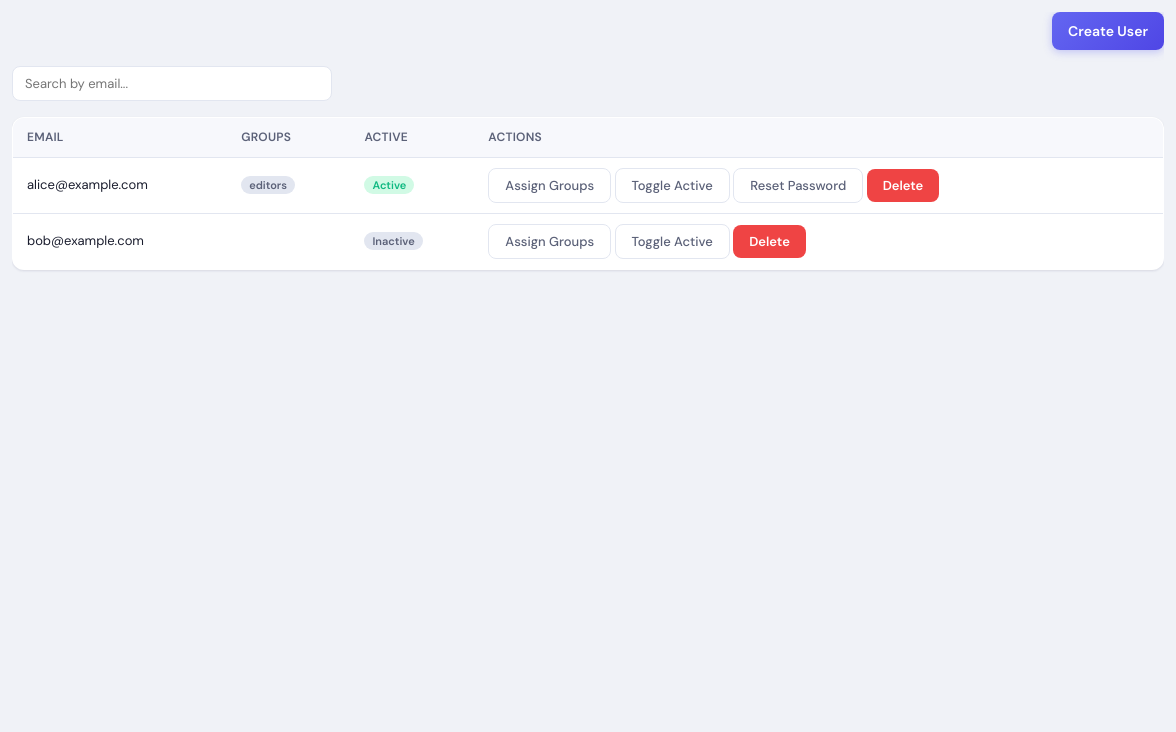
Scenario: UsersTab › clicking same email again collapses ApiKeyPanel
Click the text "alice@example.com".
click(120, 186)  # box [12,158,227,214]
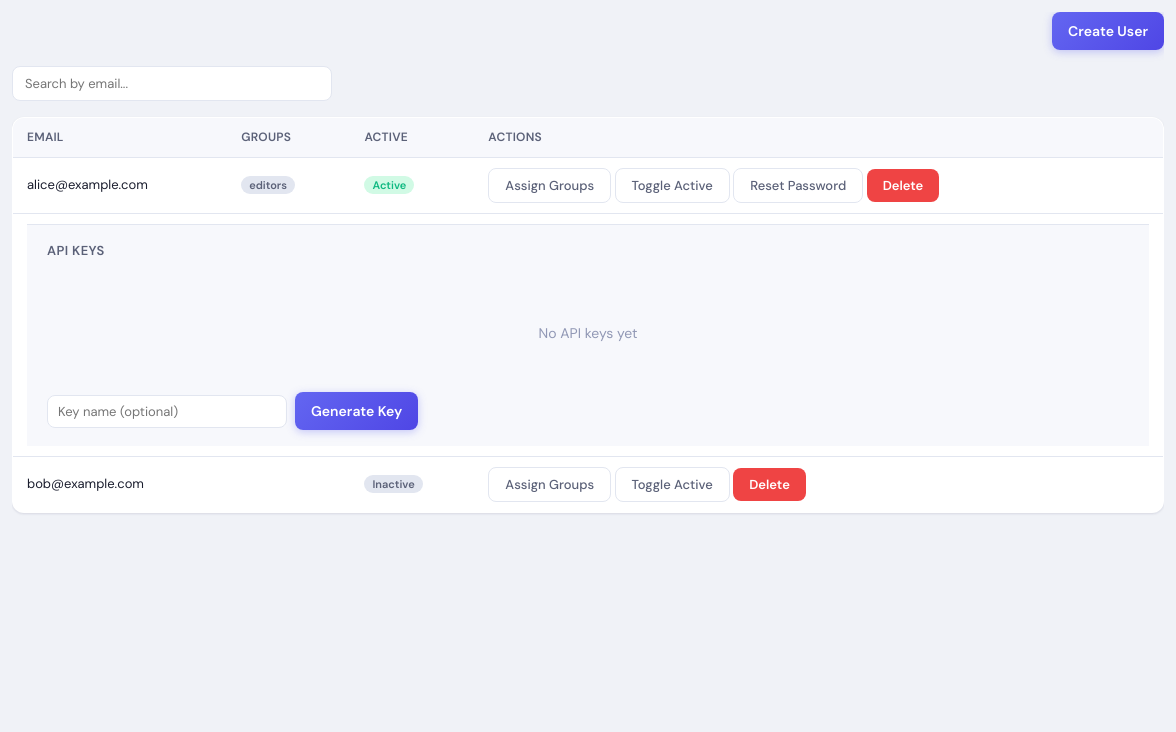
Expected: the element with class "api-key-panel" is shown, [27,224,1149,446]
Click the text "alice@example.com".
click(120, 186)  # box [12,158,227,214]
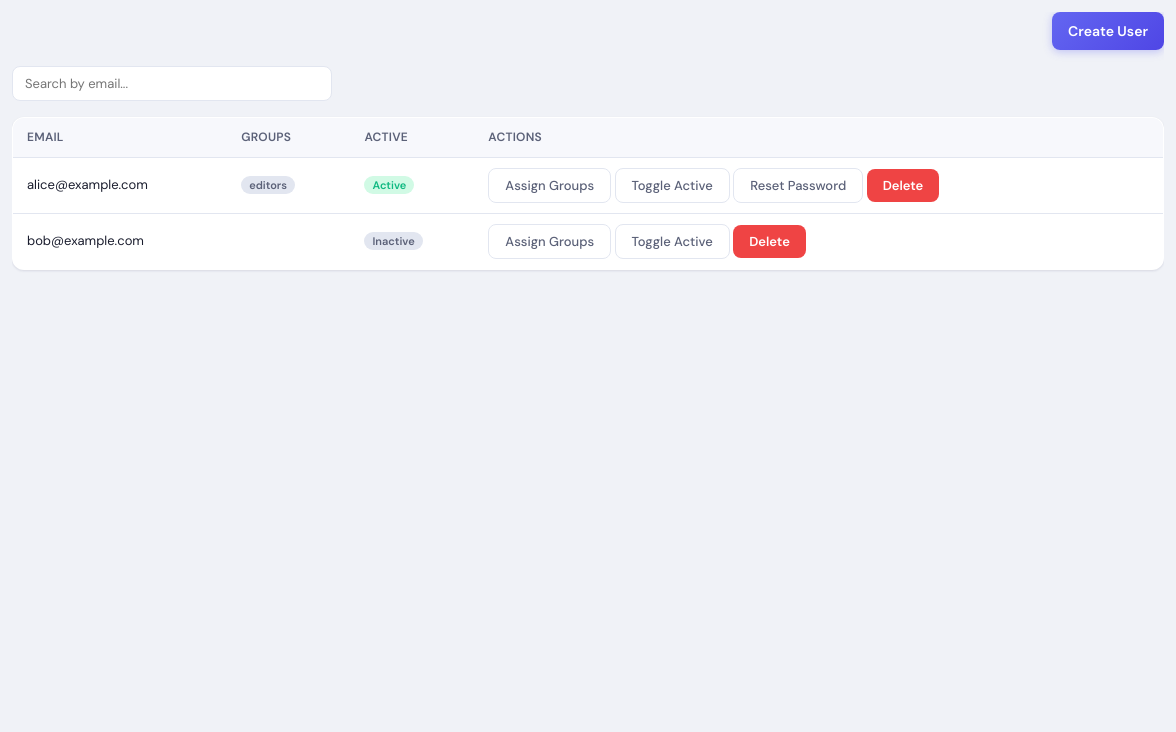
Expected: the element with class "api-key-panel" is gone
